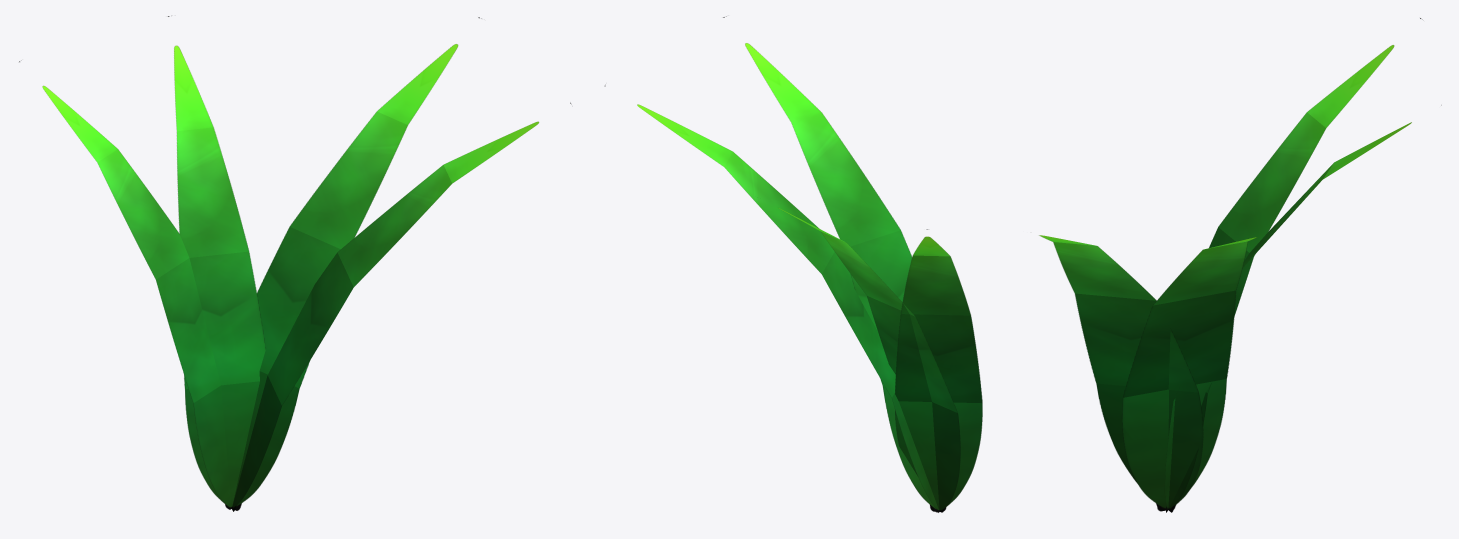
File: SM_Grass_C.glb
The picture shows the model from 3 angles, left to right: view 1: azimuth 30°, elevation 25°; view 2: azimuth 150°, elevation 25°; view 3: azimuth 270°, elevation 25°; orthographic projection. The views are drawn at different scales.
Visible parts, largest first — view 1: SM_Grass_C; view 2: SM_Grass_C; view 3: SM_Grass_C.
Boxes of the visible parts, box(x1,y1,x2,y2) form: SM_Grass_C: box(19, 16, 571, 511); SM_Grass_C: box(604, 16, 982, 512); SM_Grass_C: box(1039, 18, 1441, 512).
Size of the model in its own units: 0.4359 by 0.4043 by 0.3577.
Materials: 1 (1 with a texture image).
